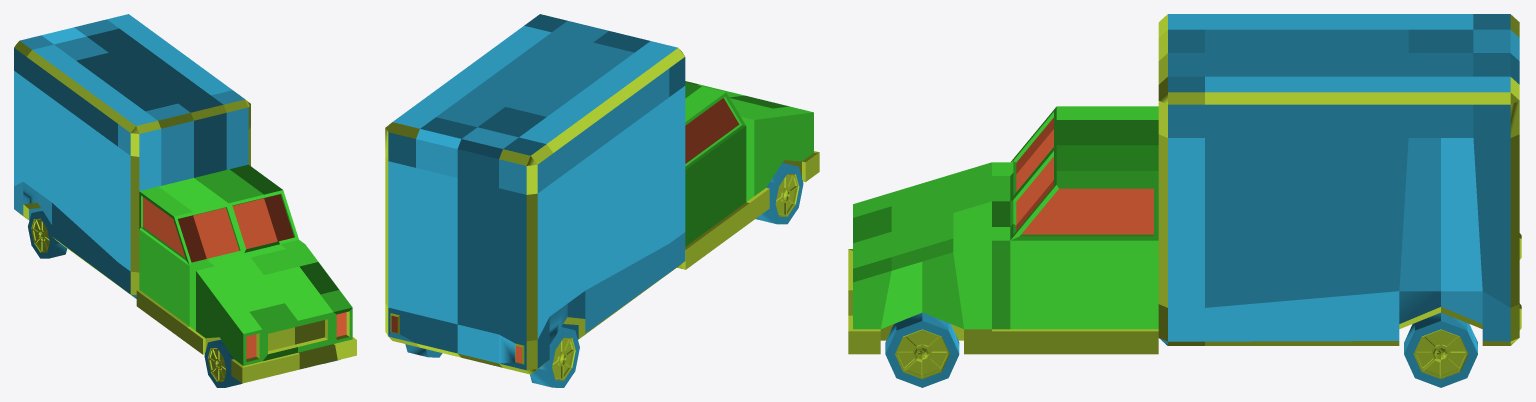
Rendered from Truck.fbx.
3 renders of one model, left to right at view 1: azimuth 30°, elevation 25°; view 2: azimuth 150°, elevation 25°; view 3: azimuth 270°, elevation 25°, orthographic. The views are drawn at different scales.
Parts seen in each view (by area): view 1: Symmetry_1; view 2: Symmetry_1; view 3: Symmetry_1.
Part boxes in pixels (box(x1,y1,x2,y2)): Symmetry_1: box(14, 14, 356, 387); Symmetry_1: box(385, 14, 819, 387); Symmetry_1: box(848, 14, 1521, 387).
Size of the model in its own units: 220 by 350 by 727.
